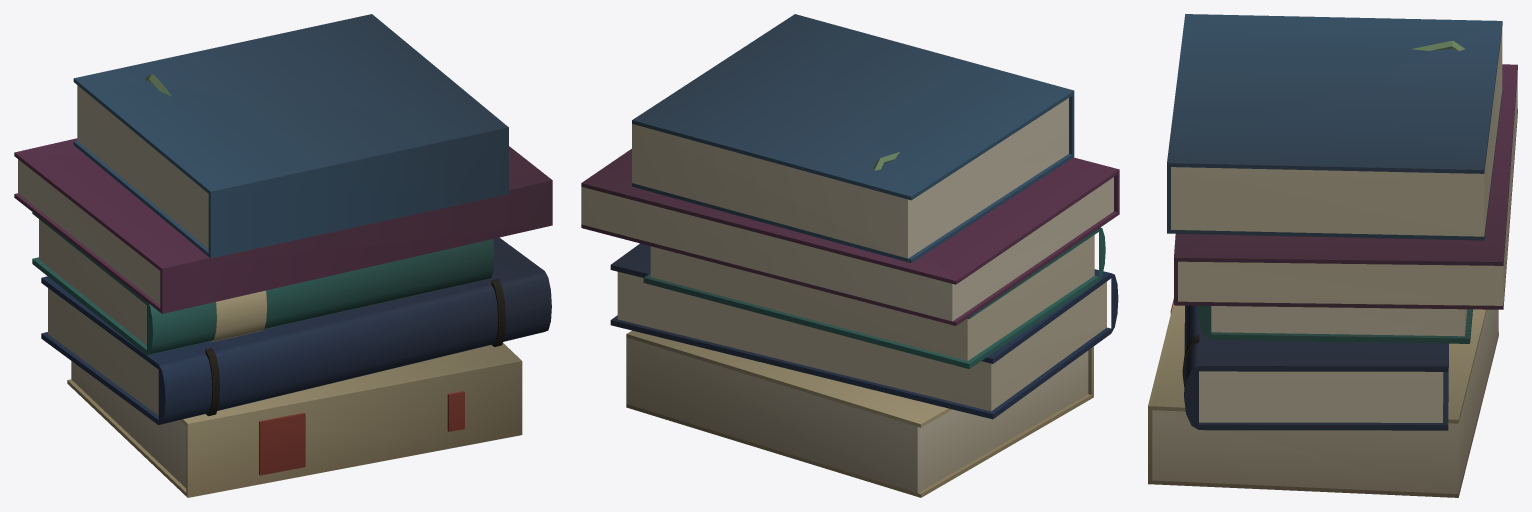
Rendered from bookshop-book-stack.glb.
3 views of the same model, side by side, from view 1: azimuth 30°, elevation 25°; view 2: azimuth 150°, elevation 25°; view 3: azimuth 270°, elevation 25° (orthographic). The views are drawn at different scales.
Visible parts, largest first — view 1: bookshop_book_stack; view 2: bookshop_book_stack; view 3: bookshop_book_stack.
Boxes of the visible parts, left/top/right/bottom form: bookshop_book_stack: left=14, top=14, right=552, bottom=497; bookshop_book_stack: left=581, top=14, right=1119, bottom=497; bookshop_book_stack: left=1148, top=14, right=1517, bottom=497.
Size of the model in its own units: 0.2716 by 0.2056 by 0.2104.
